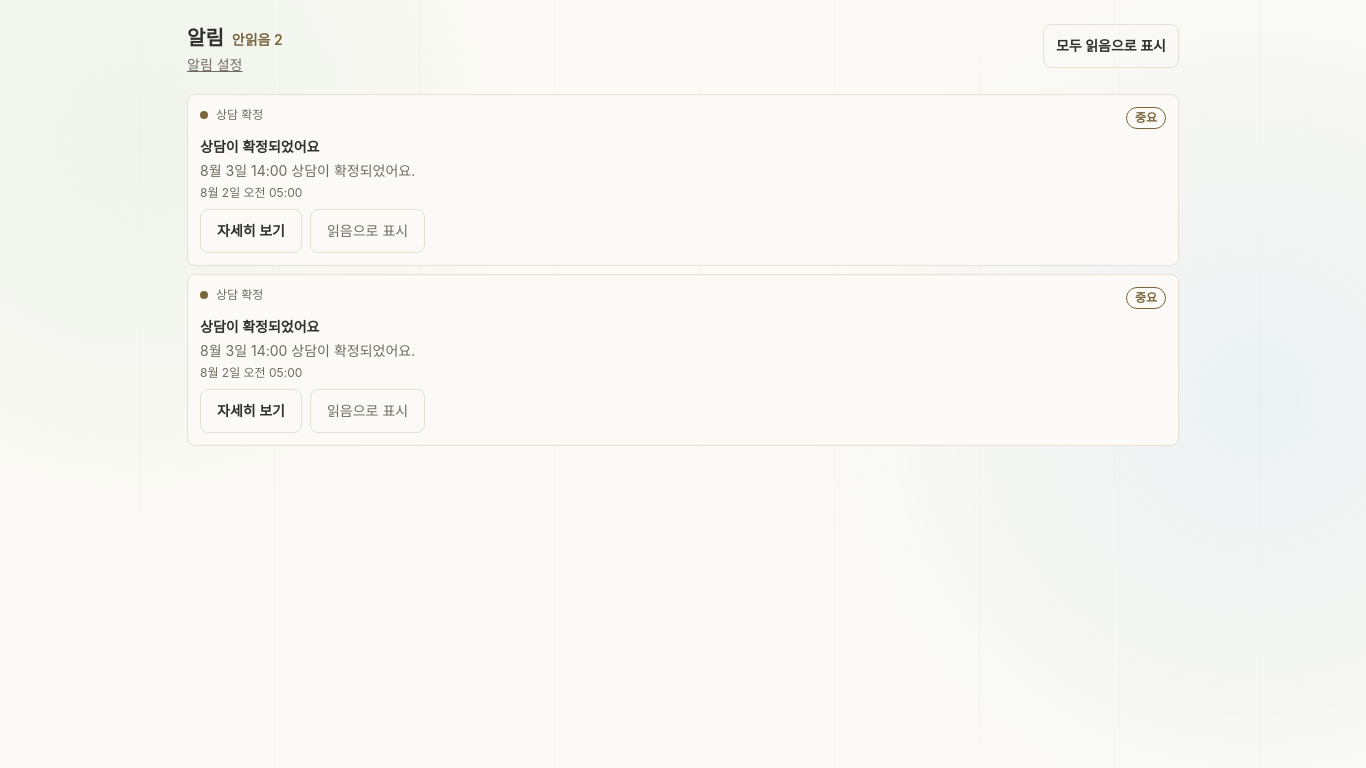
it: NotificationsPage › marks all notifications read and hides the unread affordances
This screenshot has width=1366, height=768.
What coordinates should you click on to do the following:
click the button "모두 읽음으로 표시"
I would click on:
 (1111, 46)
Its box is 1043,24 -> 1179,68.
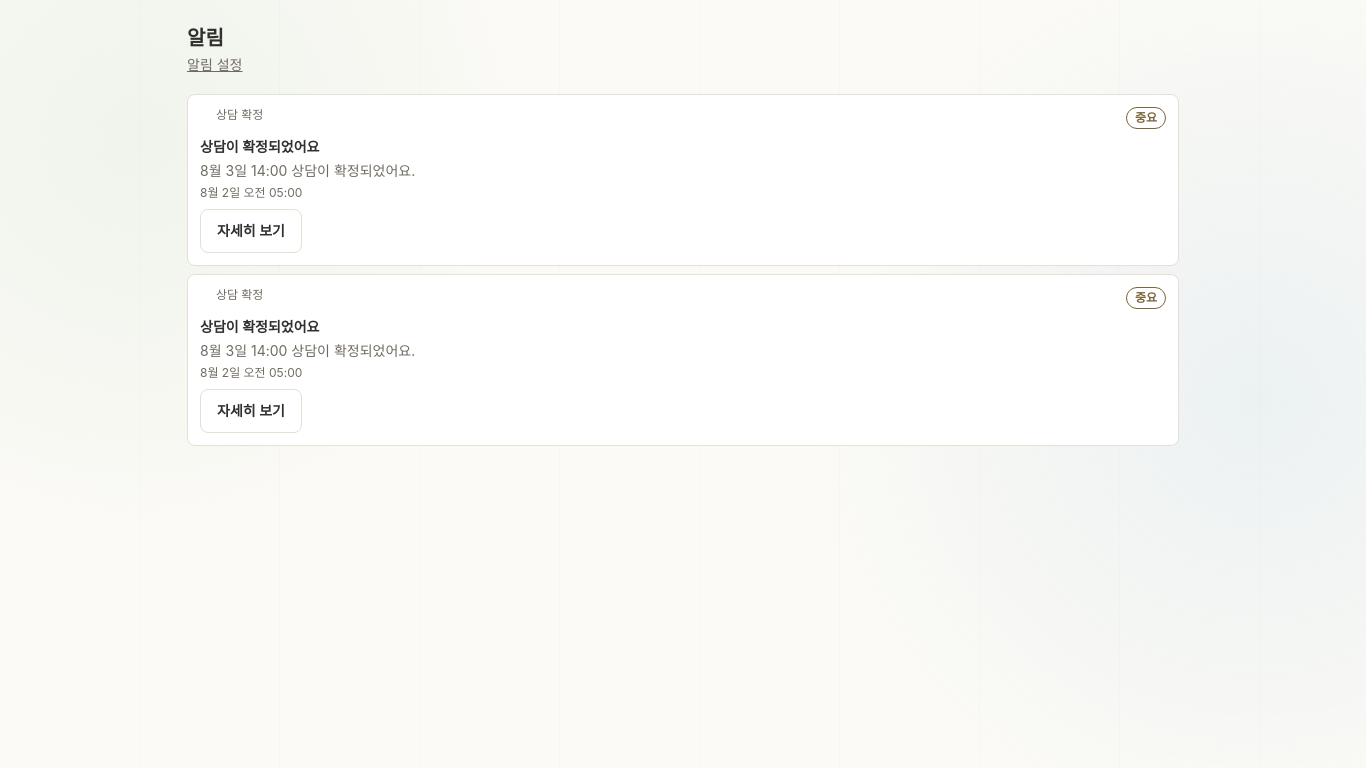
expect the text "안읽음 2" is gone: met
expect the button "모두 읽음으로 표시" is gone: met
